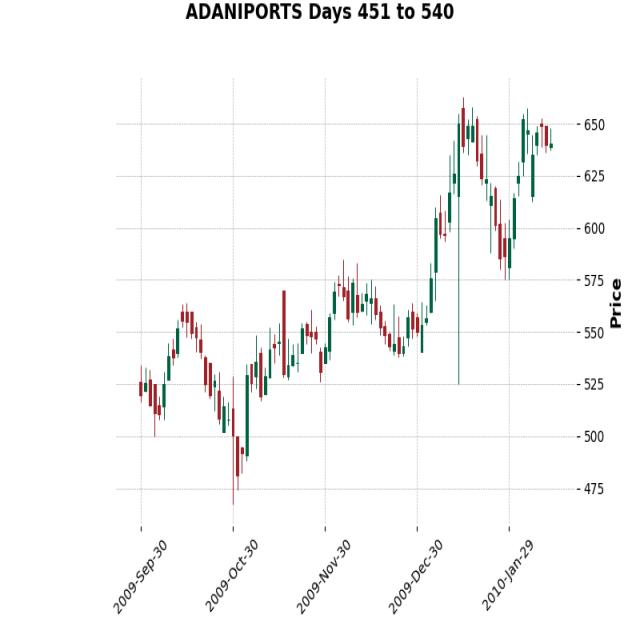Inverse Head and Shoulder: (132, 264, 338, 502)
